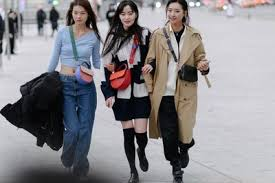no-mask: (116, 3, 138, 28), (165, 1, 187, 26), (69, 3, 90, 25)
